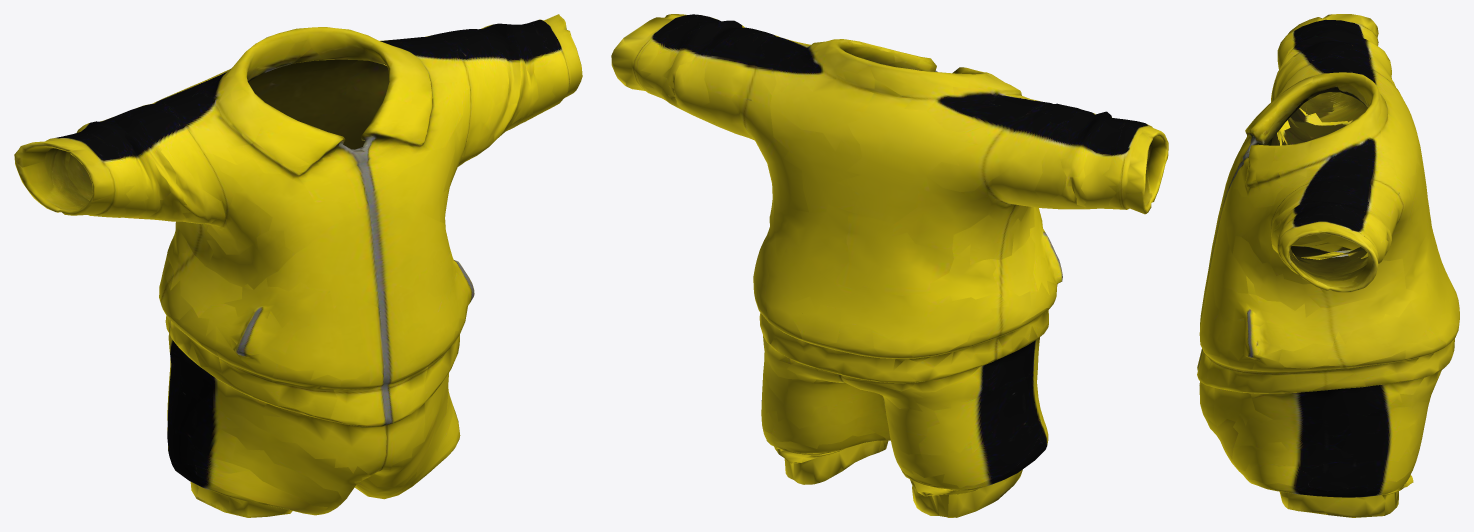
File: Tracksuit-Yellow-Stealth.glb
3 renders of one model, left to right at view 1: azimuth 30°, elevation 25°; view 2: azimuth 150°, elevation 25°; view 3: azimuth 270°, elevation 25°, orthographic. The views are drawn at different scales.
Parts seen in each view (by area): view 1: Tracksuit-Yellow-Stealth; view 2: Tracksuit-Yellow-Stealth; view 3: Tracksuit-Yellow-Stealth.
Part boxes in pixels (x1,y1,x2,y2): Tracksuit-Yellow-Stealth: [14, 14, 582, 517]; Tracksuit-Yellow-Stealth: [611, 14, 1168, 517]; Tracksuit-Yellow-Stealth: [1197, 14, 1459, 517].
Bounding box in the file's own units: 0.7352 × 0.565 × 0.3498.
1 material, 1 textured.
